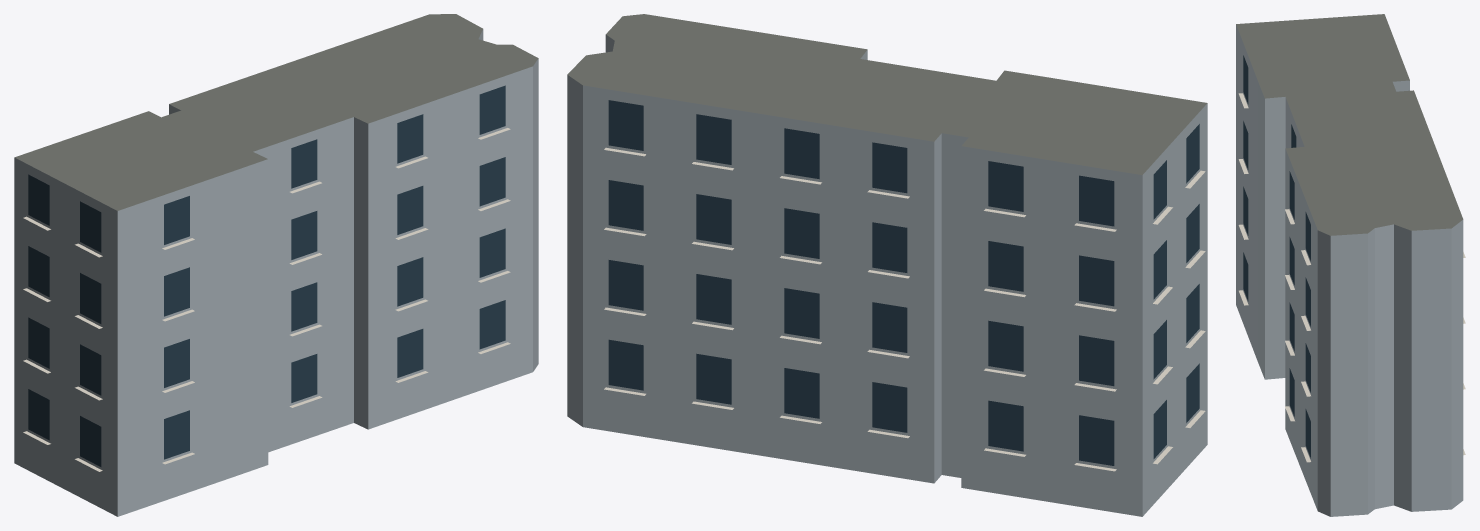
The picture shows the model from 3 angles, left to right: view 1: azimuth 30°, elevation 25°; view 2: azimuth 150°, elevation 25°; view 3: azimuth 270°, elevation 25°; orthographic projection. The views are drawn at different scales.
Visible parts, largest first — view 1: Footprint 0, Inferred window bays, Window sills; view 2: Footprint 0, Inferred window bays, Window sills; view 3: Footprint 0, Inferred window bays, Window sills.
Part boxes in pixels (left/top/right/bottom): Footprint 0: left=14, top=14, right=538, bottom=516; Inferred window bays: left=28, top=85, right=505, bottom=466; Window sills: left=23, top=128, right=510, bottom=471; Footprint 0: left=567, top=14, right=1207, bottom=516; Inferred window bays: left=608, top=100, right=1199, bottom=465; Window sills: left=604, top=147, right=1205, bottom=471; Footprint 0: left=1236, top=14, right=1463, bottom=516; Inferred window bays: left=1243, top=55, right=1310, bottom=458; Window sills: left=1238, top=93, right=1465, bottom=462.
Bounding box in the file's own units: 21.15 × 12.43 × 9.21.
